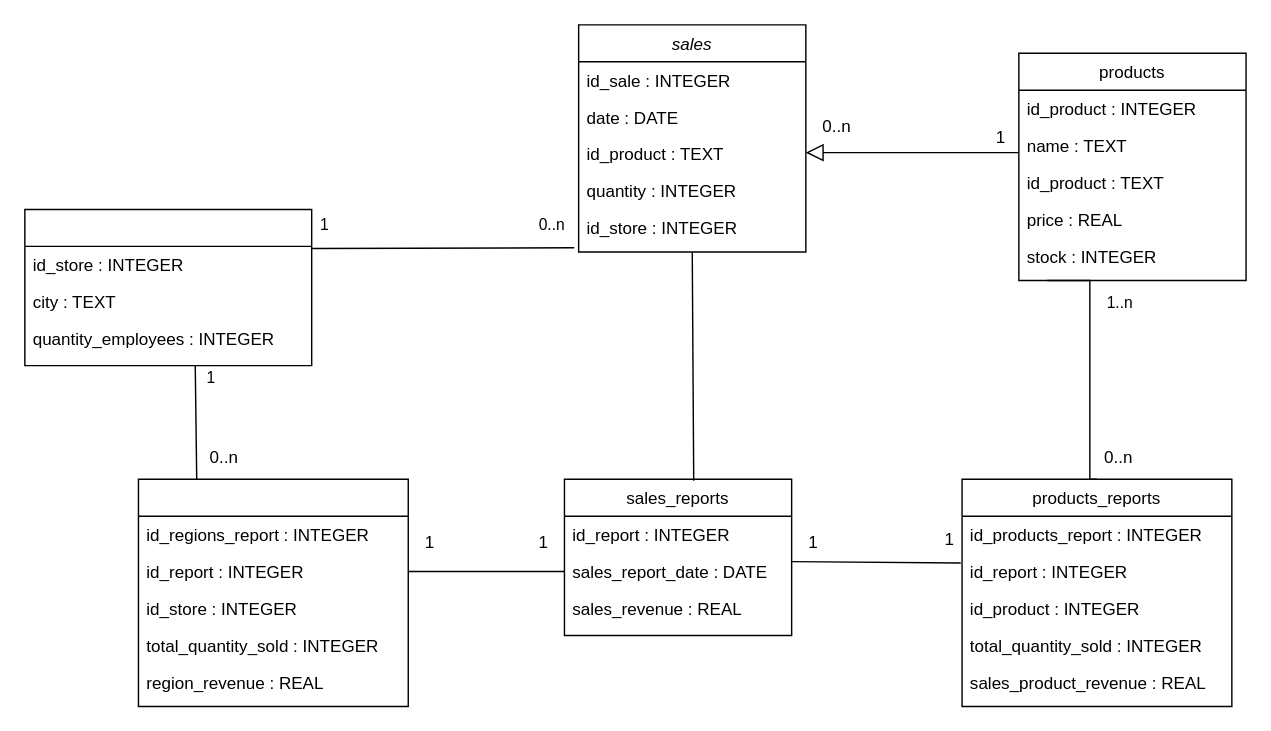
Some shapes in this 1271 by 731 pixel diagram are drawn without their labels. The shapes that lost their labels are listed below. From the top down, each one's box as (x1, y1, x2, y2) in pixels, then its label:
(23, 208, 312, 366): stores
(137, 478, 408, 706): regions_reports
